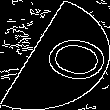O_NW: (11, 25, 99, 85)
